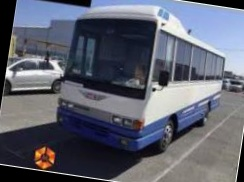bus: (50, 0, 235, 168)
